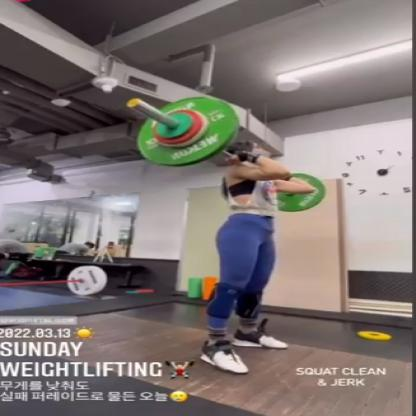Barbell: (129, 91, 246, 171), (59, 260, 109, 297)
